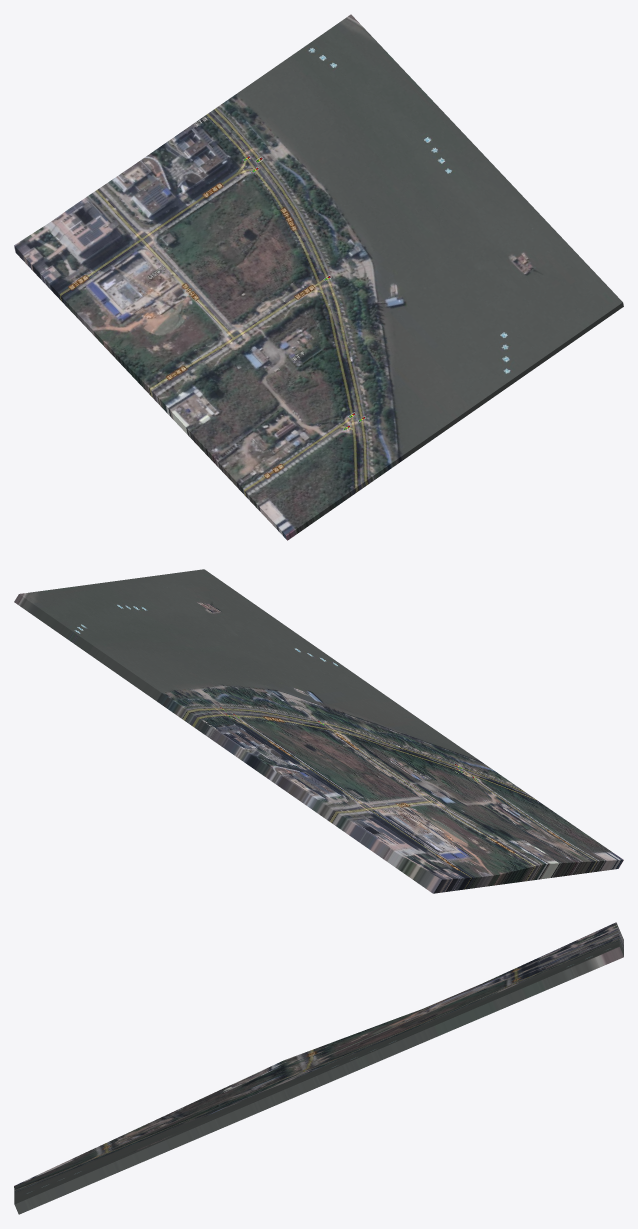
3 views of the same model, one above another, from view 1: azimuth 30°, elevation 25°; view 2: azimuth 150°, elevation 25°; view 3: azimuth 270°, elevation 25° (orthographic). The views are drawn at different scales.
Visible parts, largest first — view 1: 0_21_30; view 2: 0_21_30; view 3: 0_21_30.
Part boxes in pixels (x1,y1,x2,y2): 0_21_30: (14, 14, 623, 540); 0_21_30: (14, 569, 623, 893); 0_21_30: (14, 922, 623, 1214).
Bounding box in the file's own units: 598 × 437 × 547.
Materials: 1 (1 with a texture image).
